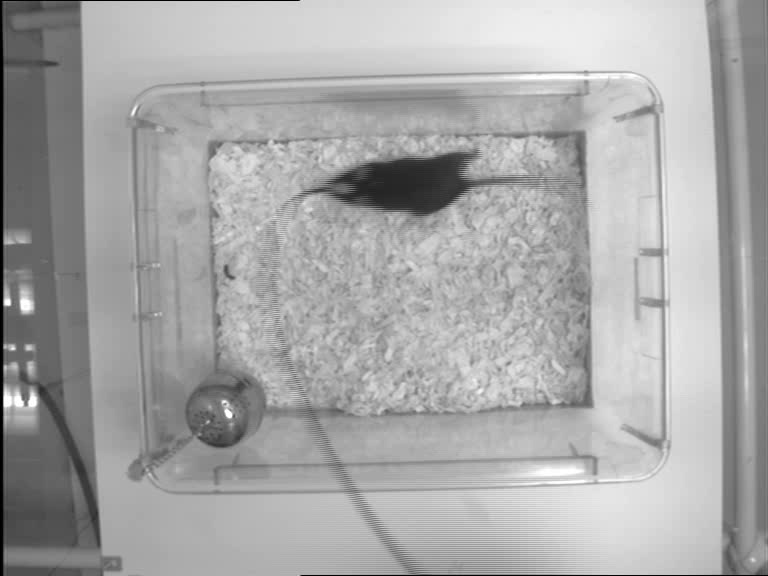mice: (325, 146, 557, 215)
